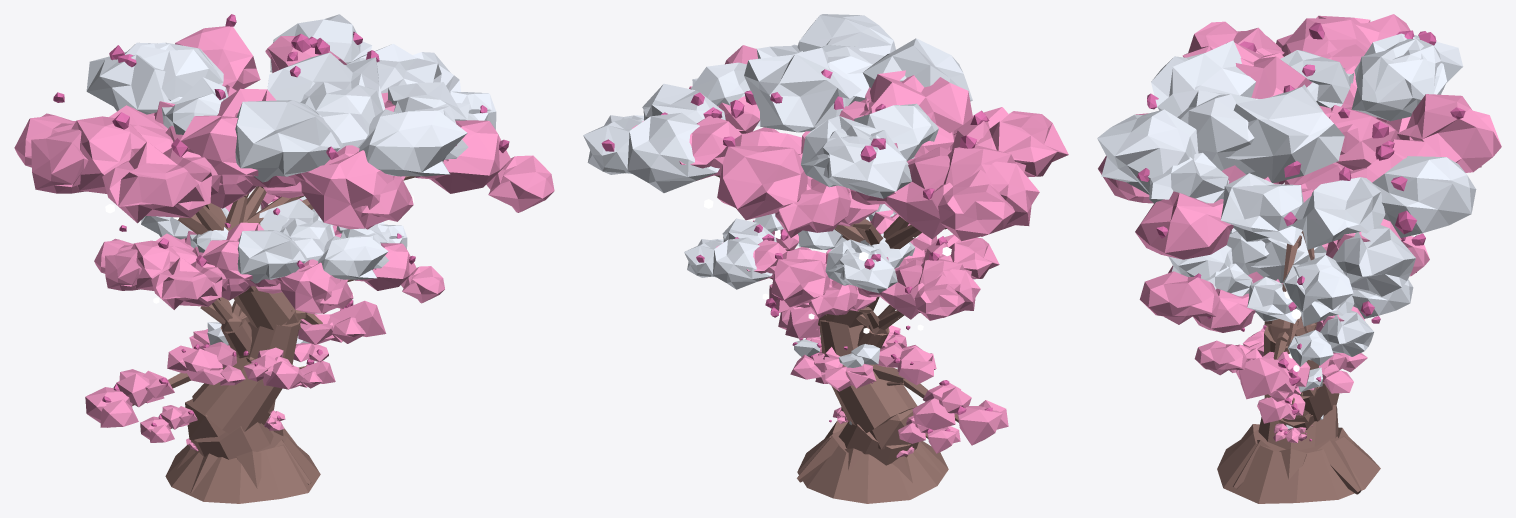
Rendered from AncientSakura.fbx.
The picture shows the model from 3 angles, left to right: view 1: azimuth 30°, elevation 25°; view 2: azimuth 150°, elevation 25°; view 3: azimuth 270°, elevation 25°; orthographic projection. The views are drawn at different scales.
Parts seen in each view (by area): view 1: AncientSakura4_Leaves, AncientSakura4_LeavesLight, AncientSakura4_Bark, AncientSakura3_Leaves, AncientSakura3_LeavesLight, AncientSakura2_Leaves, AncientSakura4_LeavesDark, AncientSakura3_Bark; view 2: AncientSakura4_Leaves, AncientSakura4_LeavesLight, AncientSakura4_Bark, AncientSakura3_Leaves, AncientSakura3_LeavesLight, AncientSakura2_Leaves, AncientSakura4_LeavesDark, AncientSakura3_Bark, AncientSakura2_LeavesLight, AncientSakura3_LeavesDark; view 3: AncientSakura4_LeavesLight, AncientSakura4_Leaves, AncientSakura4_Bark, AncientSakura3_LeavesLight, AncientSakura3_Leaves, AncientSakura4_LeavesDark, AncientSakura2_Leaves, AncientSakura3_Bark, AncientSakura3_LeavesDark.
Boxes of the visible parts, x1,y1,x2,y2 form: AncientSakura4_Leaves: (14,26,554,427); AncientSakura4_LeavesLight: (86,14,496,182); AncientSakura4_Bark: (132,176,415,503); AncientSakura3_Leaves: (94,193,444,442); AncientSakura3_LeavesLight: (141,196,407,283); AncientSakura2_Leaves: (167,329,328,450); AncientSakura4_LeavesDark: (53,14,509,402); AncientSakura3_Bark: (170,279,354,428); AncientSakura4_Leaves: (632,45,1068,445); AncientSakura4_LeavesLight: (583,14,972,198); AncientSakura4_Bark: (715,175,958,503); AncientSakura3_Leaves: (716,210,999,453); AncientSakura3_LeavesLight: (684,204,915,293); AncientSakura2_Leaves: (790,325,936,457); AncientSakura4_LeavesDark: (601,69,992,414); AncientSakura3_Bark: (770,278,928,438); AncientSakura2_LeavesLight: (794,339,880,367); AncientSakura3_LeavesDark: (696,224,950,433); AncientSakura4_LeavesLight: (1097,33,1476,311); AncientSakura4_Leaves: (1098,14,1501,399); AncientSakura4_Bark: (1217,230,1380,503); AncientSakura3_LeavesLight: (1168,228,1413,366); AncientSakura3_Leaves: (1168,236,1429,423); AncientSakura4_LeavesDark: (1137,22,1465,385); AncientSakura2_Leaves: (1229,327,1367,442); AncientSakura3_Bark: (1278,316,1314,429); AncientSakura3_LeavesDark: (1194,237,1405,414).
Bounding box in the file's own units: 335 × 293 × 254.
